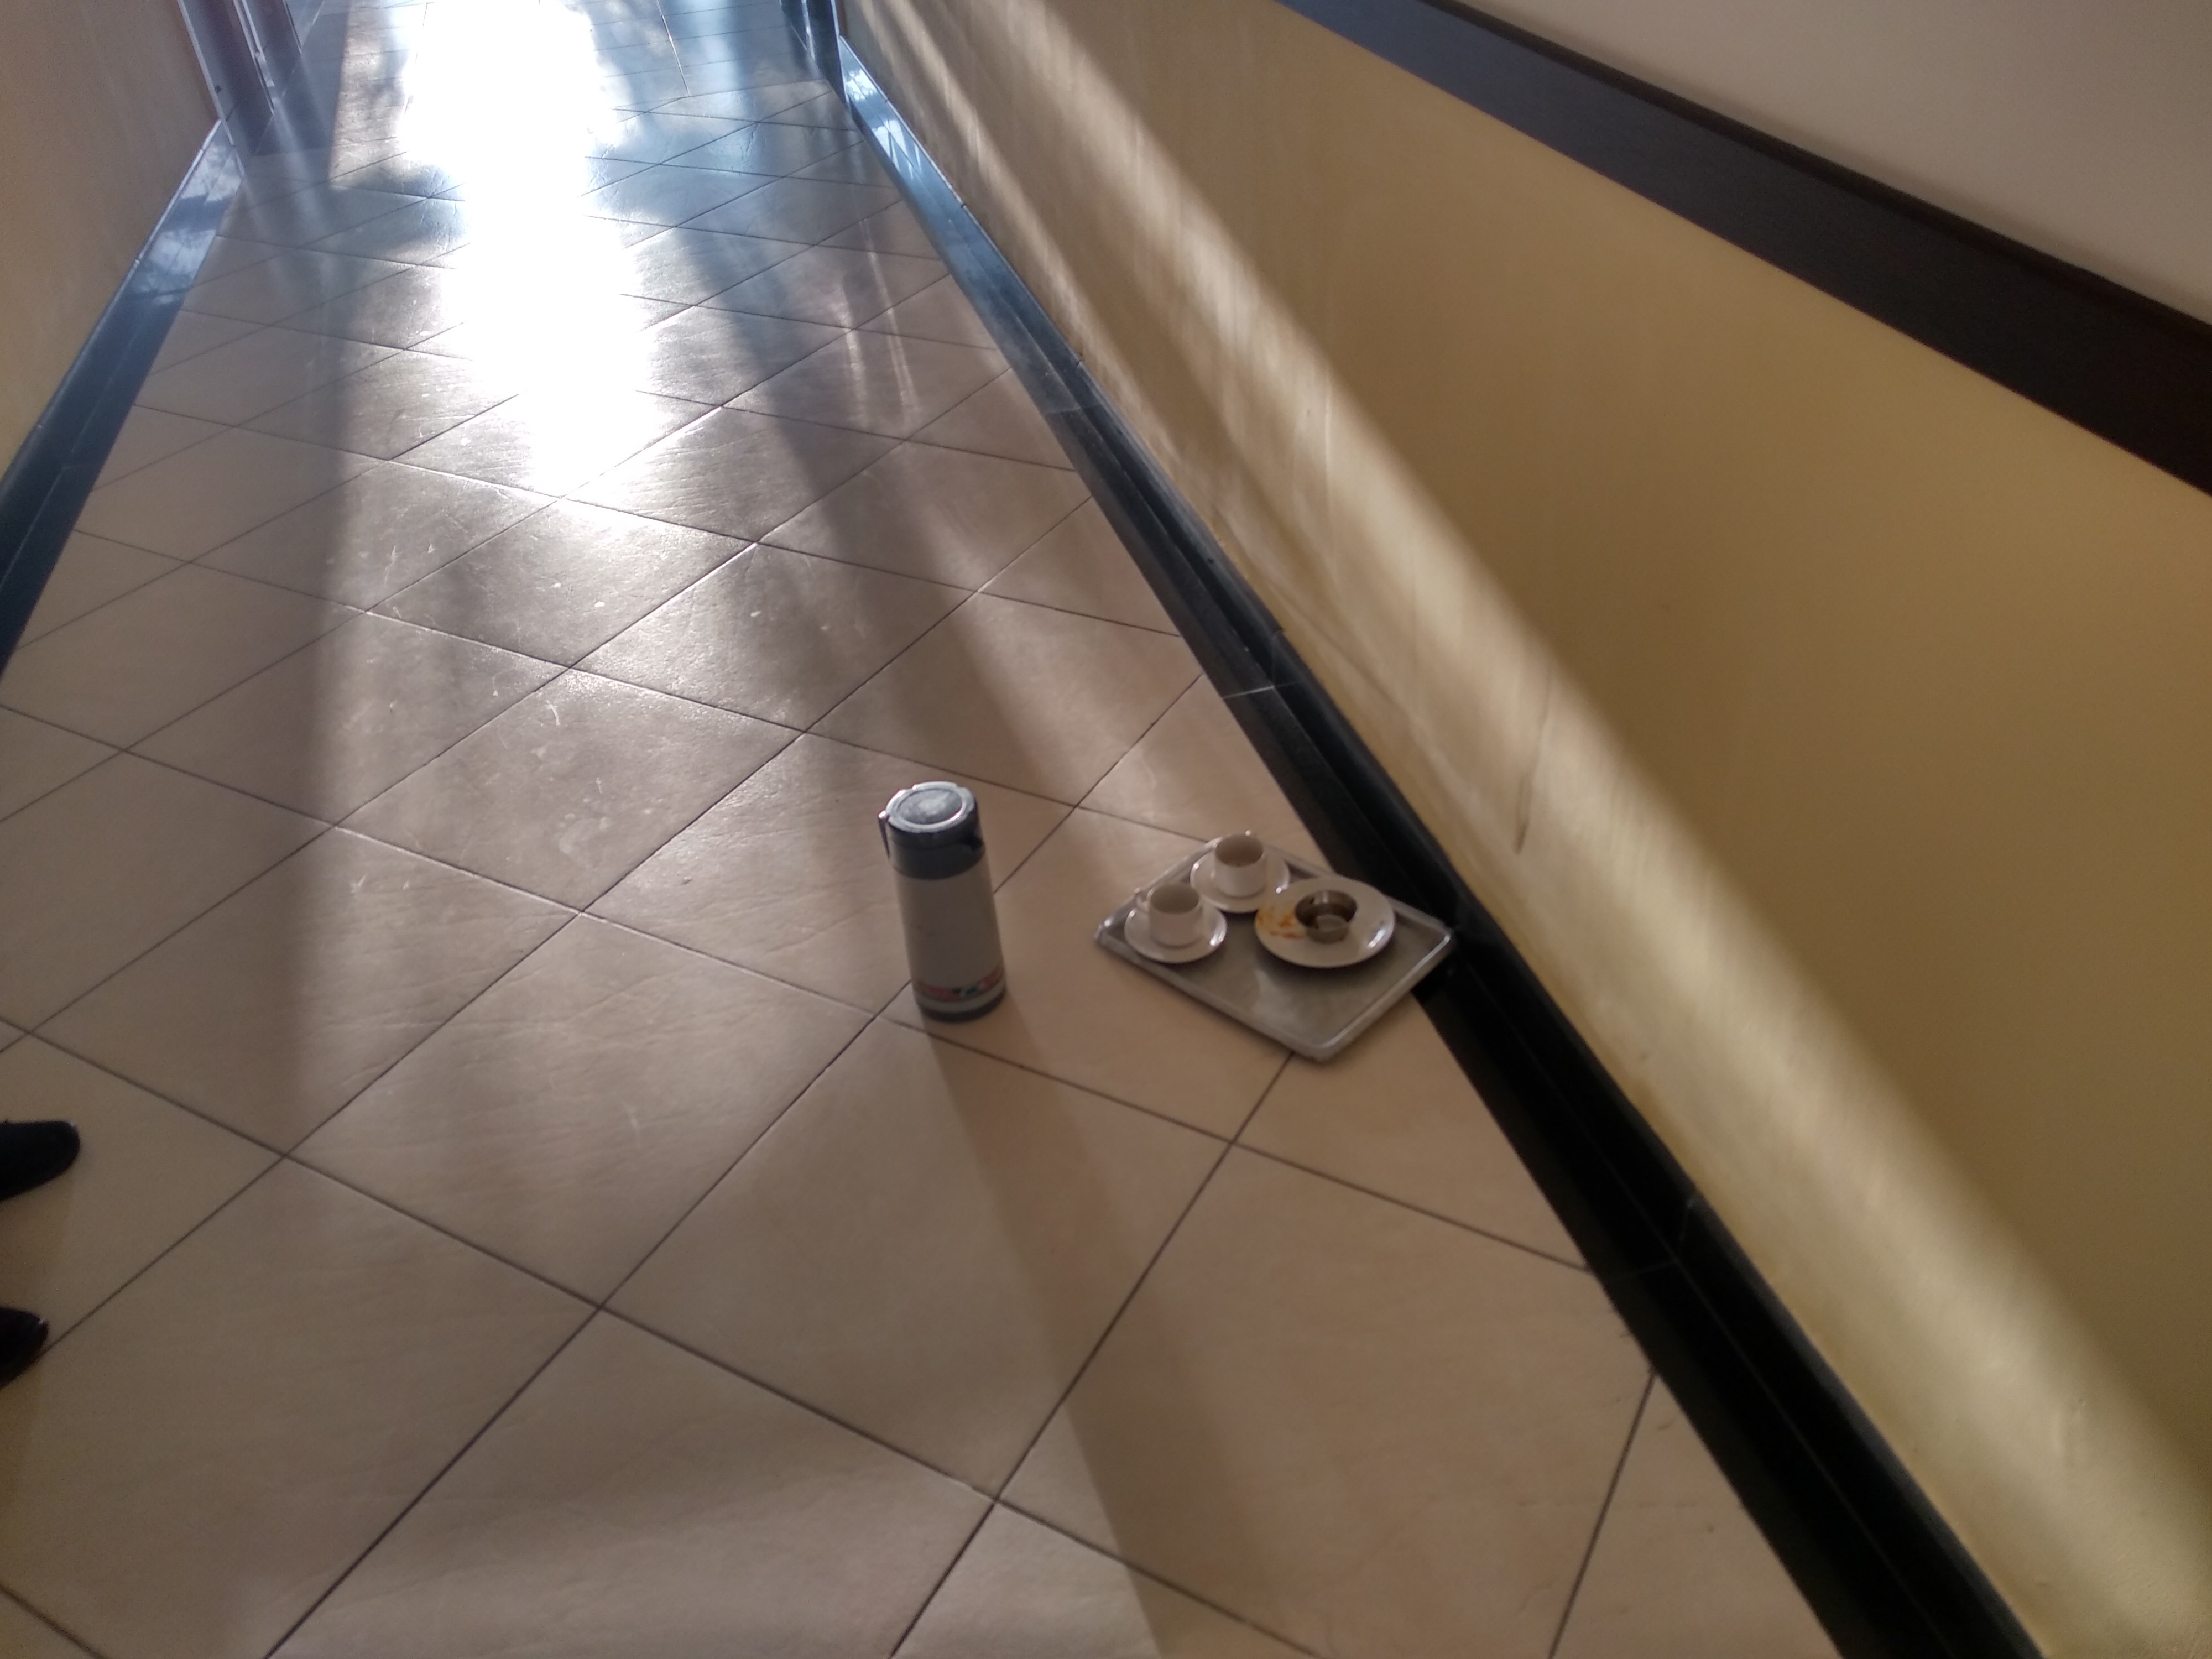CUP: (1129, 873, 1226, 974), (1191, 830, 1289, 910), (1292, 889, 1360, 945)
JUG: (869, 788, 1021, 1025)
